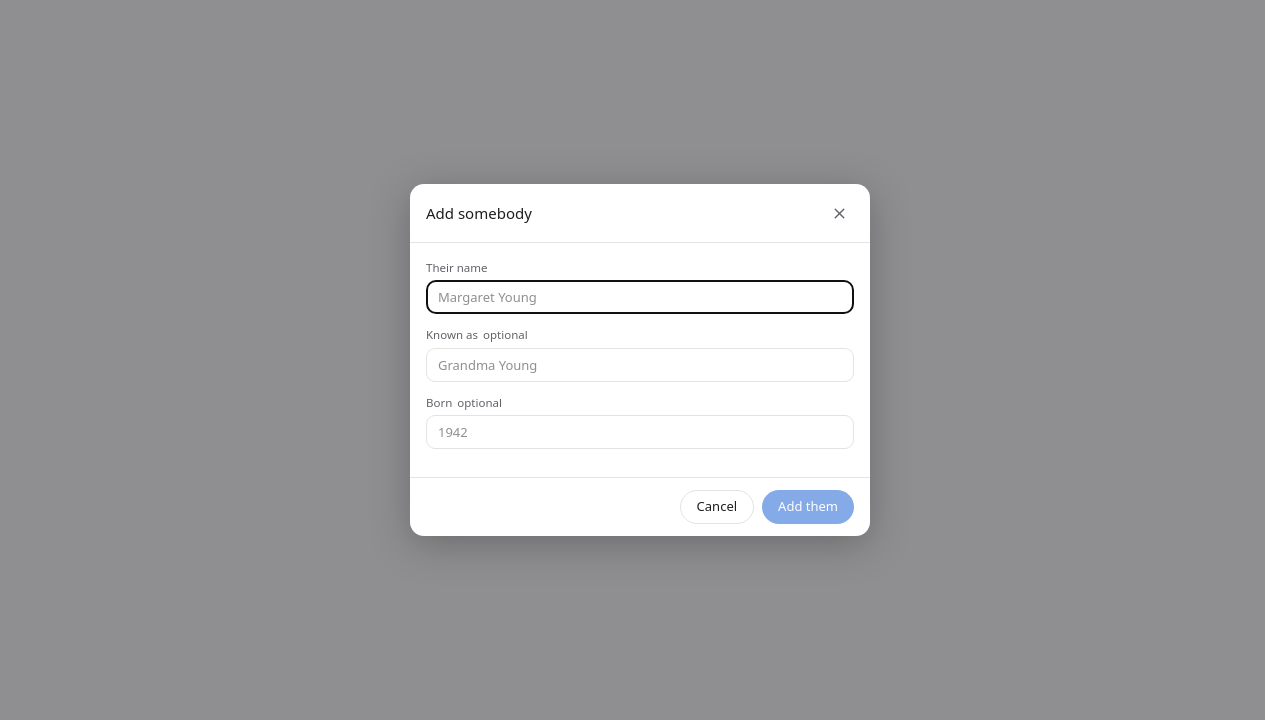
Test: AddPersonModal › submission › shows an error message and stays open when create fails
The width and height of the screenshot is (1280, 720).
Type "X" into the field with placeholder "Margaret Young". click: {"x": 640, "y": 297}
box: [426,280,854,314]
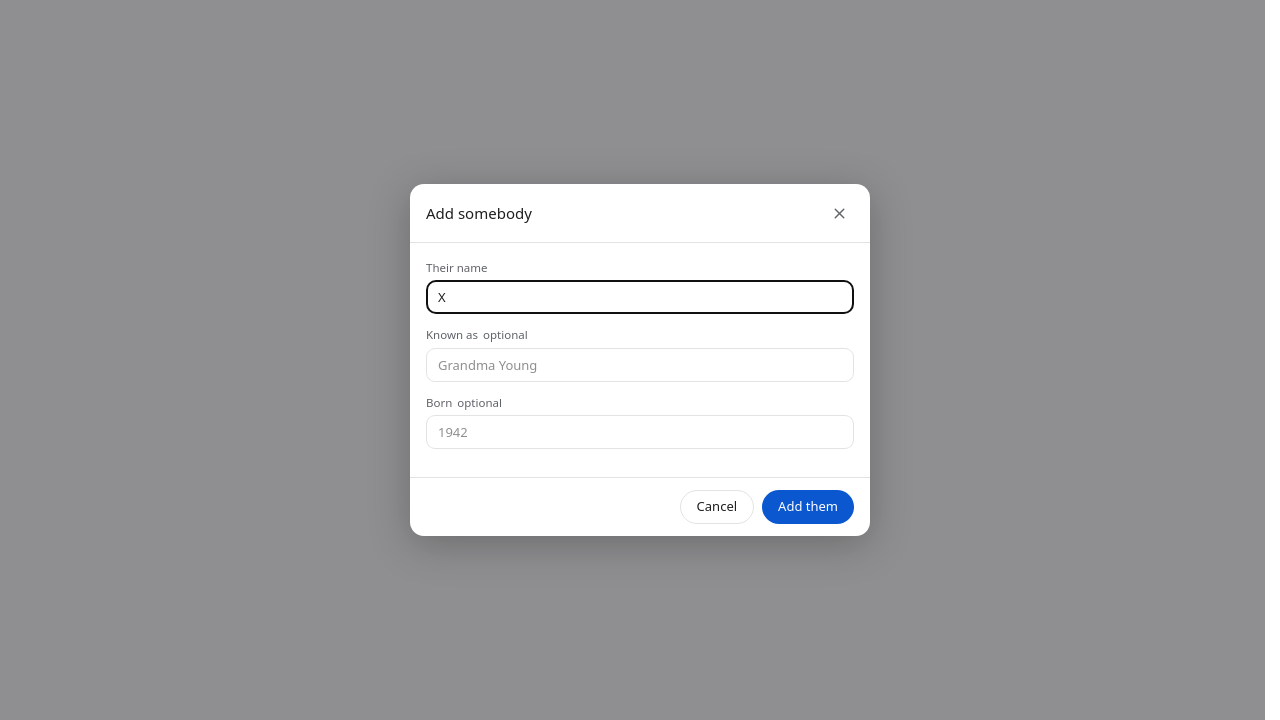
Click the button "Add them". click: {"x": 808, "y": 507}
box: [762,490,854,524]
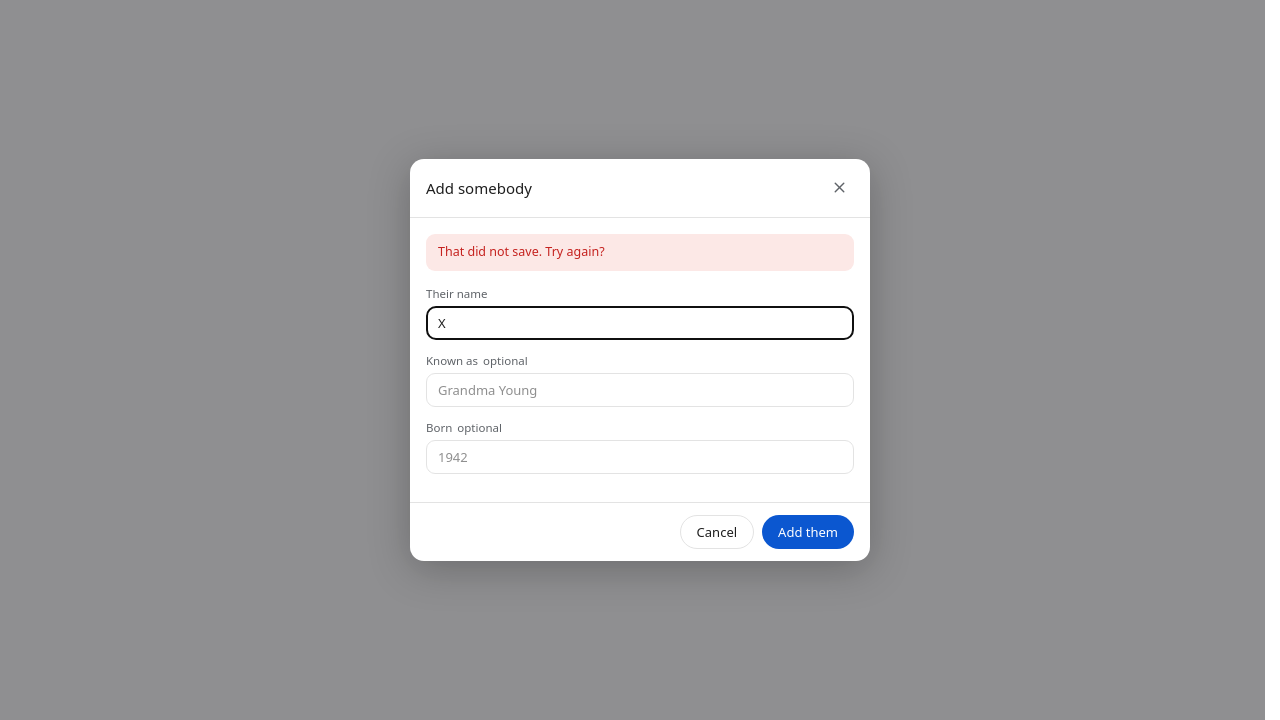
Check: the text "That did not save. Try again?" is shown, box [426,234,854,271]
